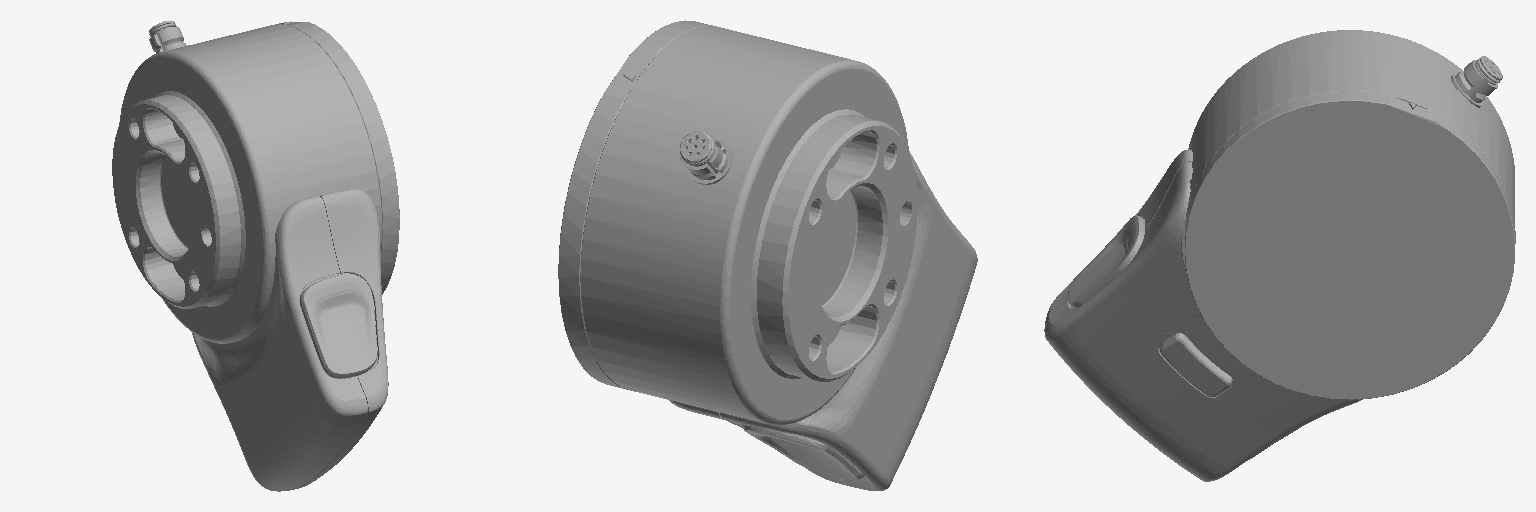
The robot description file, URDF, robot "panda":
<?xml version="1.0" encoding="utf-8"?>
<!-- =================================================================================== -->
<!-- |    This document was autogenerated by xacro from panda_arm.urdf.xacro           | -->
<!-- |    EDITING THIS FILE BY HAND IS NOT RECOMMENDED                                 | -->
<!-- =================================================================================== -->
<robot name="panda">
  <link name="panda_link0">
    <visual>
      <geometry>
        <mesh filename="package://Panda/meshes/visual/link0.stl"/>
      </geometry>
    </visual>
    <collision>
      <origin rpy="0 1.57079632679 0" xyz="-0.075 0 0.06"/>
      <geometry>
        <cylinder length="0.03" radius="0.09"/>
      </geometry>
    </collision>
    <collision>
      <origin rpy="0 0 0" xyz="-0.06 0 0.06"/>
      <geometry>
        <sphere radius="0.09"/>
      </geometry>
    </collision>
    <collision>
      <origin rpy="0 0 0" xyz="-0.09 0 0.06"/>
      <geometry>
        <sphere radius="0.09"/>
      </geometry>
    </collision>
  </link>
  <link name="panda_link1">
    <visual>
      <geometry>
        <mesh filename="package://Panda/meshes/visual/link1.stl"/>
      </geometry>
    </visual>
    <collision>
      <origin rpy="0 0 0" xyz="0 0 -0.1915"/>
      <geometry>
        <cylinder length="0.2830" radius="0.09"/>
      </geometry>
    </collision>
    <collision>
      <origin rpy="0 0 0" xyz="0 0 -0.333"/>
      <geometry>
        <sphere radius="0.09"/>
      </geometry>
    </collision>
    <collision>
      <origin rpy="0 0 0" xyz="0 0 -0.05"/>
      <geometry>
        <sphere radius="0.09"/>
      </geometry>
    </collision>
  </link>
  <joint name="panda_joint1" type="revolute">
    <safety_controller k_position="100.0" k_velocity="40.0" soft_lower_limit="-2.8973" soft_upper_limit="2.8973"/>
    <origin rpy="0 0 0" xyz="0 0 0.333"/>
    <parent link="panda_link0"/>
    <child link="panda_link1"/>
    <axis xyz="0 0 1"/>
    <limit effort="87" lower="-2.8973" upper="2.8973" velocity="2.1750"/>
  </joint>
  <link name="panda_link2">
    <visual>
      <geometry>
        <mesh filename="package://Panda/meshes/visual/link2.stl"/>
      </geometry>
    </visual>
    <collision>
      <origin rpy="0 0 0" xyz="0 0 0"/>
      <geometry>
        <cylinder length="0.12" radius="0.09"/>
      </geometry>
    </collision>
    <collision>
      <origin rpy="0 0 0" xyz="0 0 -0.06"/>
      <geometry>
        <sphere radius="0.09"/>
      </geometry>
    </collision>
    <collision>
      <origin rpy="0 0 0" xyz="0 0 0.06"/>
      <geometry>
        <sphere radius="0.09"/>
      </geometry>
    </collision>
  </link>
  <joint name="panda_joint2" type="revolute">
    <safety_controller k_position="100.0" k_velocity="40.0" soft_lower_limit="-1.7628" soft_upper_limit="1.7628"/>
    <origin rpy="-1.57079632679 0 0" xyz="0 0 0"/>
    <parent link="panda_link1"/>
    <child link="panda_link2"/>
    <axis xyz="0 0 1"/>
    <limit effort="87" lower="-1.7628" upper="1.7628" velocity="2.1750"/>
  </joint>
  <link name="panda_link3">
    <visual>
      <geometry>
        <mesh filename="package://Panda/meshes/visual/link3.stl"/>
      </geometry>
    </visual>
    <collision>
      <origin rpy="0 0 0" xyz="0 0 -0.145"/>
      <geometry>
        <cylinder length="0.15" radius="0.09"/>
      </geometry>
    </collision>
    <collision>
      <origin rpy="0 0 0" xyz="0 0 -0.22"/>
      <geometry>
        <sphere radius="0.09"/>
      </geometry>
    </collision>
    <collision>
      <origin rpy="0 0 0" xyz="0 0 -0.07"/>
      <geometry>
        <sphere radius="0.09"/>
      </geometry>
    </collision>
  </link>
  <joint name="panda_joint3" type="revolute">
    <safety_controller k_position="100.0" k_velocity="40.0" soft_lower_limit="-2.8973" soft_upper_limit="2.8973"/>
    <origin rpy="1.57079632679 0 0" xyz="0 -0.316 0"/>
    <parent link="panda_link2"/>
    <child link="panda_link3"/>
    <axis xyz="0 0 1"/>
    <limit effort="87" lower="-2.8973" upper="2.8973" velocity="2.1750"/>
  </joint>
  <link name="panda_link4">
    <visual>
      <geometry>
        <mesh filename="package://Panda/meshes/visual/link4.stl"/>
      </geometry>
    </visual>
    <collision>
      <origin rpy="0 0 0" xyz="0 0 0"/>
      <geometry>
        <cylinder length="0.12" radius="0.09"/>
      </geometry>
    </collision>
    <collision>
      <origin rpy="0 0 0" xyz="0 0 0.06"/>
      <geometry>
        <sphere radius="0.09"/>
      </geometry>
    </collision>
    <collision>
      <origin rpy="0 0 0" xyz="0 0 -0.06"/>
      <geometry>
        <sphere radius="0.09"/>
      </geometry>
    </collision>
  </link>
  <joint name="panda_joint4" type="revolute">
    <safety_controller k_position="100.0" k_velocity="40.0" soft_lower_limit="-3.0718" soft_upper_limit="-0.0698"/>
    <origin rpy="1.57079632679 0 0" xyz="0.0825 0 0"/>
    <parent link="panda_link3"/>
    <child link="panda_link4"/>
    <axis xyz="0 0 1"/>
    <limit effort="87" lower="-3.0718" upper="-0.0698" velocity="2.1750"/>
  </joint>
  <link name="panda_link5">
    <visual>
      <geometry>
        <mesh filename="package://Panda/meshes/visual/link5.stl"/>
      </geometry>
    </visual>
    <collision>
      <origin rpy="0 0 0" xyz="0 0 -0.26"/>
      <geometry>
        <cylinder length="0.1" radius="0.09"/>
      </geometry>
    </collision>
    <collision>
      <origin rpy="0 0 0" xyz="0 0 -0.31"/>
      <geometry>
        <sphere radius="0.09"/>
      </geometry>
    </collision>
    <collision>
      <origin rpy="0 0 0" xyz="0 0 -0.21"/>
      <geometry>
        <sphere radius="0.09"/>
      </geometry>
    </collision>
    <collision>
      <origin rpy="0 0 0" xyz="0 0.08 -0.13"/>
      <geometry>
        <cylinder length="0.14" radius="0.055"/>
      </geometry>
    </collision>
    <collision>
      <origin rpy="0 0 0" xyz="0 0.08 -0.06"/>
      <geometry>
        <sphere radius="0.055"/>
      </geometry>
    </collision>
    <collision>
      <origin rpy="0 0 0" xyz="0 0.08 -0.20"/>
      <geometry>
        <sphere radius="0.055"/>
      </geometry>
    </collision>
  </link>
  <joint name="panda_joint5" type="revolute">
    <safety_controller k_position="100.0" k_velocity="40.0" soft_lower_limit="-2.8973" soft_upper_limit="2.8973"/>
    <origin rpy="-1.57079632679 0 0" xyz="-0.0825 0.384 0"/>
    <parent link="panda_link4"/>
    <child link="panda_link5"/>
    <axis xyz="0 0 1"/>
    <limit effort="12" lower="-2.8973" upper="2.8973" velocity="2.6100"/>
  </joint>
  <link name="panda_link6">
    <visual>
      <geometry>
        <mesh filename="package://Panda/meshes/visual/link6.stl"/>
      </geometry>
    </visual>
    <collision>
      <origin rpy="0 0 0" xyz="0 0 -0.03"/>
      <geometry>
        <cylinder length="0.08" radius="0.08"/>
      </geometry>
    </collision>
    <collision>
      <origin rpy="0 0 0" xyz="0 0 0.01"/>
      <geometry>
        <sphere radius="0.08"/>
      </geometry>
    </collision>
    <collision>
      <origin rpy="0 0 0" xyz="0 0 -0.07"/>
      <geometry>
        <sphere radius="0.08"/>
      </geometry>
    </collision>
  </link>
  <joint name="panda_joint6" type="revolute">
    <safety_controller k_position="100.0" k_velocity="40.0" soft_lower_limit="-0.0175" soft_upper_limit="3.7525"/>
    <origin rpy="1.57079632679 0 0" xyz="0 0 0"/>
    <parent link="panda_link5"/>
    <child link="panda_link6"/>
    <axis xyz="0 0 1"/>
    <limit effort="12" lower="-0.0175" upper="3.7525" velocity="2.6100"/>
  </joint>
  <link name="panda_link7">
    <visual>
      <geometry>
        <mesh filename="package://Panda/meshes/visual/link7.stl"/>
      </geometry>
    </visual>
    <collision>
      <origin rpy="0 0 0" xyz="0 0 0.01"/>
      <geometry>
        <cylinder length="0.14" radius="0.07"/>
      </geometry>
    </collision>
    <collision>
      <origin rpy="0 0 0" xyz="0 0 0.08"/>
      <geometry>
        <sphere radius="0.07"/>
      </geometry>
    </collision>
    <collision>
      <origin rpy="0 0 0" xyz="0 0 -0.06"/>
      <geometry>
        <sphere radius="0.07"/>
      </geometry>
    </collision>
  </link>
  <joint name="panda_joint7" type="revolute">
    <safety_controller k_position="100.0" k_velocity="40.0" soft_lower_limit="-2.8973" soft_upper_limit="2.8973"/>
    <origin rpy="1.57079632679 0 0" xyz="0.088 0 0"/>
    <parent link="panda_link6"/>
    <child link="panda_link7"/>
    <axis xyz="0 0 1"/>
    <limit effort="12" lower="-2.8973" upper="2.8973" velocity="2.6100"/>
  </joint>
  <link name="panda_link8">
    <collision>
      <origin rpy="3.14159265359 1.57079632679 1.57079632679" xyz="0.0424 0.0424 -0.0250"/>
      <geometry>
        <cylinder length="0.01" radius="0.06"/>
      </geometry>
    </collision>
    <collision>
      <origin rpy="0 0 0" xyz="0.0424 0.0424 -0.02"/>
      <geometry>
        <sphere radius="0.06"/>
      </geometry>
    </collision>
    <collision>
      <origin rpy="0 0 0" xyz="0.0424 0.0424 -0.03"/>
      <geometry>
        <sphere radius="0.06"/>
      </geometry>
    </collision>
  </link>
  <joint name="panda_joint8" type="fixed">
    <origin rpy="0 0 0" xyz="0 0 0.107"/>
    <parent link="panda_link7"/>
    <child link="panda_link8"/>
  </joint>
</robot>

--- Facts derived from the render (not from the file) ---
3 views of the same robot in one strip: view 1: azimuth 30°, elevation 25°; view 2: azimuth 150°, elevation 25°; view 3: azimuth 270°, elevation 25° (orthographic).
Robot: panda — 9 links, 8 joints (7 revolute, 1 fixed); root link panda_link0; default pose: joints at zero except 1 at the middle of their limits (panda_joint4 = -1.57).
Visible links, largest first — view 1: panda_link7; view 2: panda_link7; view 3: panda_link7.
Link boxes in pixels (left/top/right/bottom): panda_link7: left=112, top=21, right=399, bottom=491; panda_link7: left=558, top=20, right=977, bottom=490; panda_link7: left=1044, top=30, right=1515, bottom=481.
Size in the robot's own frame: 0.0548 by 0.1253 by 0.1253 metres.
1 mesh visuals loaded from 8 distinct referenced files (1 binary STL); not drawn: 7 (reference not matched to a file when rendering).